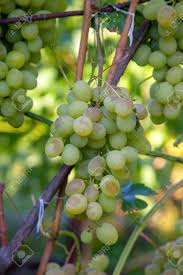grapes: (56, 82, 135, 249), (134, 16, 183, 114), (9, 10, 40, 120)
